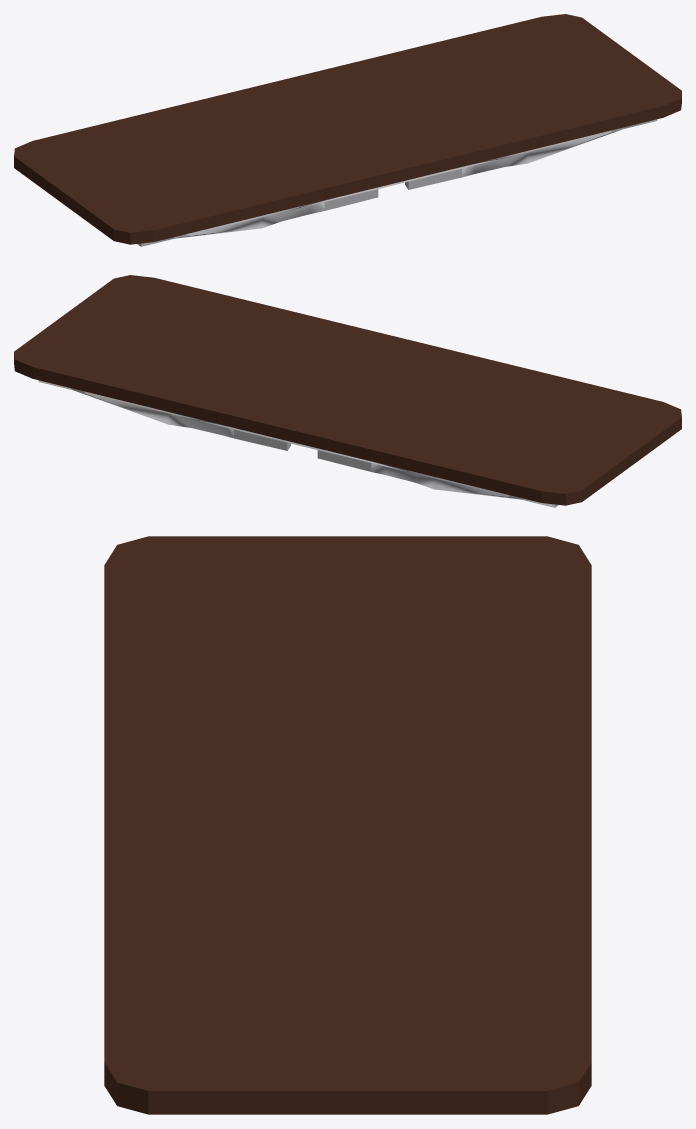
Rendered from FoldingTableFolded.glb.
The picture shows the model from 3 angles, top to bottom: view 1: azimuth 30°, elevation 25°; view 2: azimuth 150°, elevation 25°; view 3: azimuth 270°, elevation 25°; orthographic projection. The views are drawn at different scales.
Parts seen in each view (by area): view 1: FoldingTableFolded; view 2: FoldingTableFolded; view 3: FoldingTableFolded.
Boxes of the visible parts, x1,y1,x2,y2 form: FoldingTableFolded: [14, 14, 681, 246]; FoldingTableFolded: [14, 275, 681, 507]; FoldingTableFolded: [104, 536, 591, 1114].
Bounding box in the file's own units: 2.64 × 0.1693 × 0.9792.
1 material, 1 textured.
